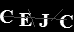C: (58, 14, 74, 29), (1, 8, 13, 25)
E: (18, 12, 33, 27)
J: (38, 13, 50, 28)
